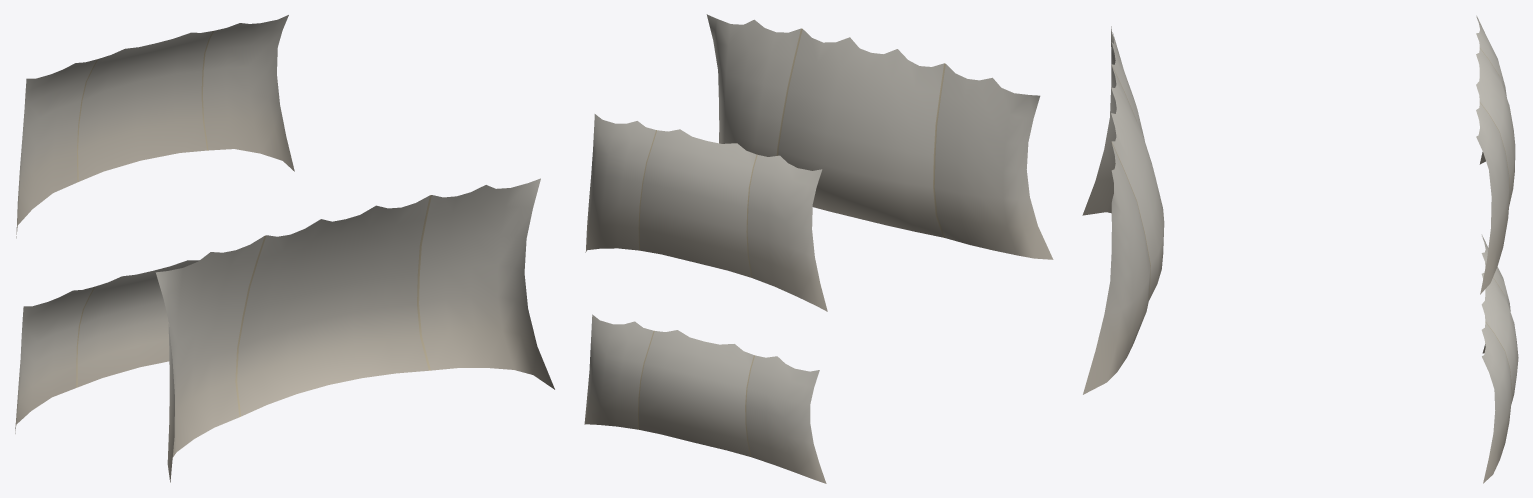
3 renders of one model, left to right at view 1: azimuth 30°, elevation 25°; view 2: azimuth 150°, elevation 25°; view 3: azimuth 270°, elevation 25°, orthographic. The views are drawn at different scales.
Visible parts, largest first — view 1: polySurface4; view 2: polySurface4; view 3: polySurface4.
Part boxes in pixels (box(x1,y1,x2,y2)): polySurface4: box(15, 15, 554, 482); polySurface4: box(584, 14, 1053, 483); polySurface4: box(1082, 15, 1518, 483).
Bounding box in the file's own units: 11.08 × 10.02 × 11.35.
